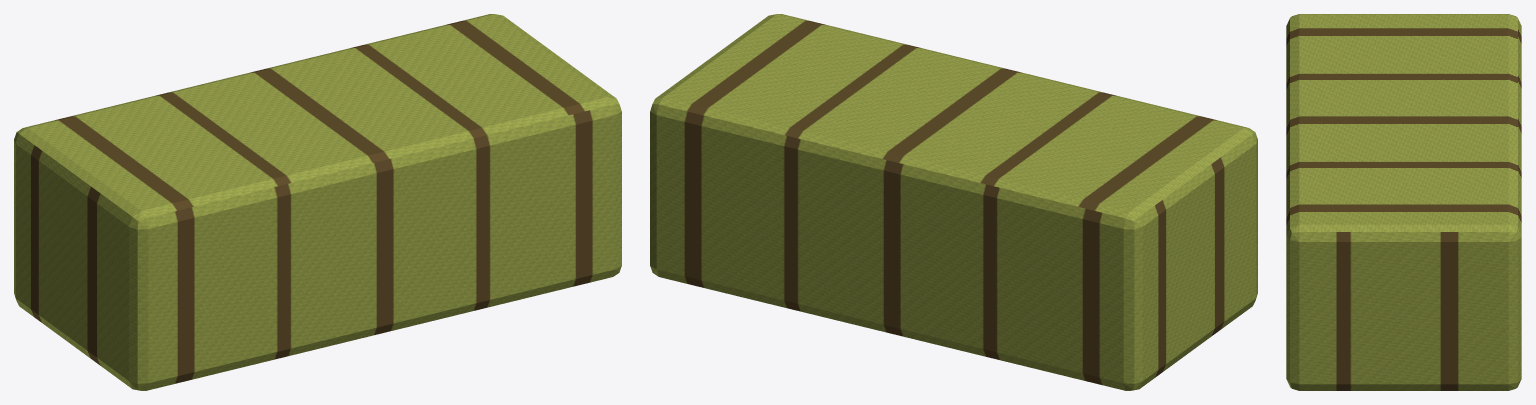
The model's file is haybale_rect_green.dae.
3 views of the same model, side by side, from view 1: azimuth 30°, elevation 25°; view 2: azimuth 150°, elevation 25°; view 3: azimuth 270°, elevation 25° (orthographic). The views are drawn at different scales.
Visible parts, largest first — view 1: Cube; view 2: Cube; view 3: Cube.
Part boxes in pixels (bbox=[...]): Cube: bbox=[14, 14, 621, 390]; Cube: bbox=[650, 14, 1257, 390]; Cube: bbox=[1286, 14, 1521, 390].
Size of the model in its own units: 1 by 0.45 by 0.35.
1 material, 1 textured.
